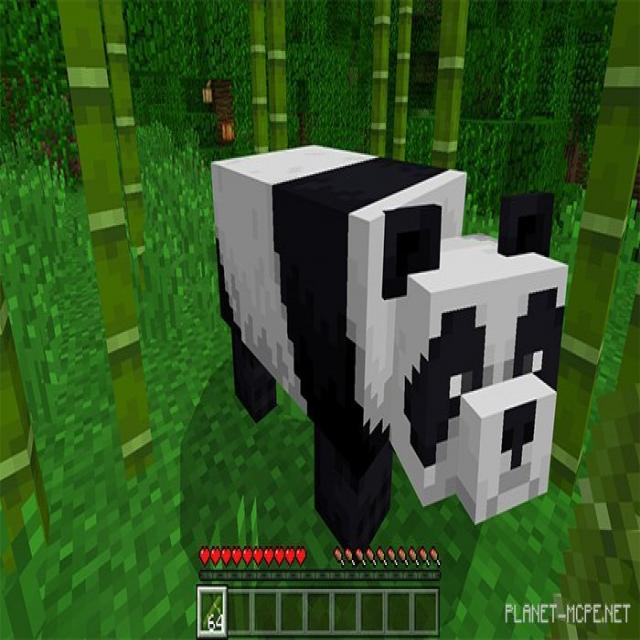Panda: (208, 134, 570, 557)
